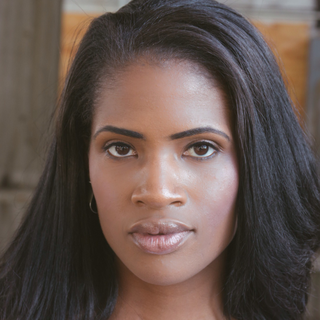eye: (176, 138, 224, 164), (100, 138, 143, 164)
